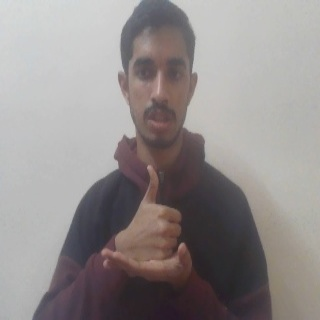Face: (117, 2, 199, 151)
Help: (99, 162, 194, 284)
